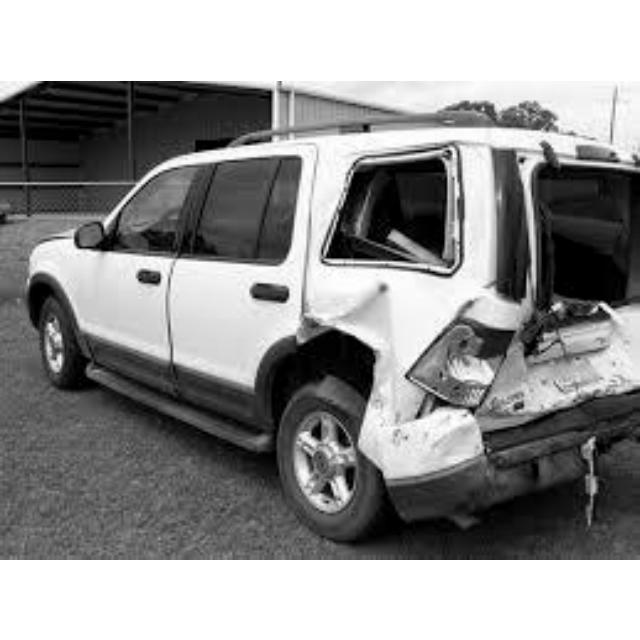Taillight-Damage: (433, 325, 514, 426)
boot-dent: (512, 303, 630, 406)
quaterpanel-dent: (292, 263, 482, 369)
rear-bumper-dent: (425, 421, 617, 497)
